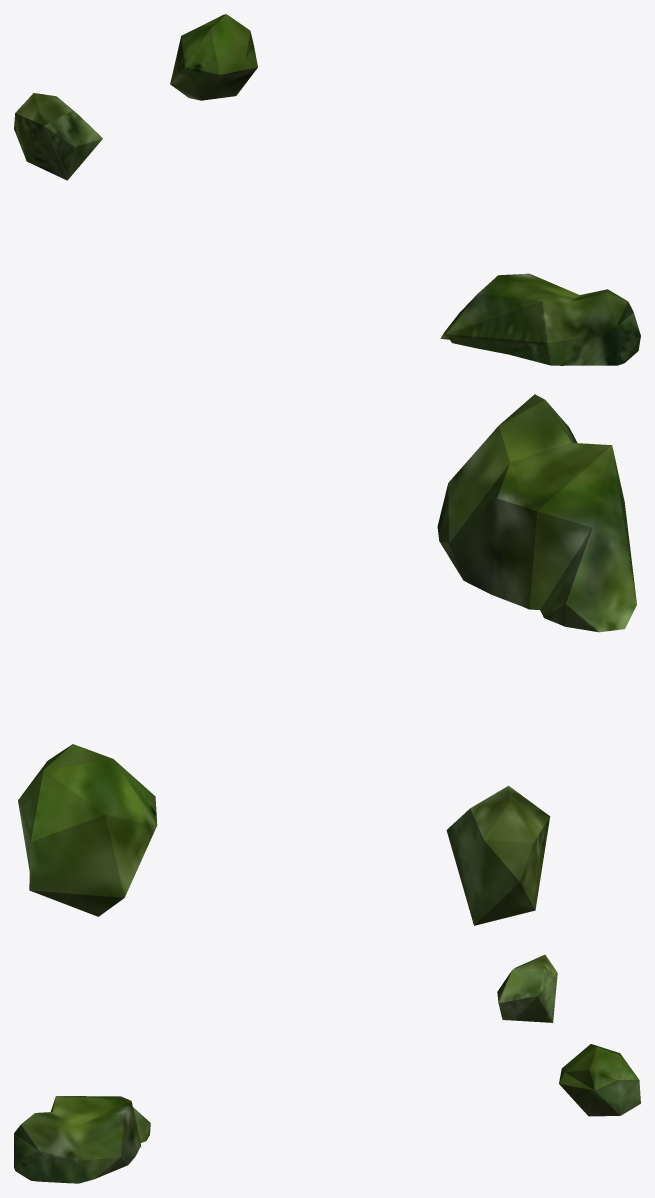
3 views of the same model, one above another, from view 1: azimuth 30°, elevation 25°; view 2: azimuth 150°, elevation 25°; view 3: azimuth 270°, elevation 25° (orthographic). The views are drawn at different scales.
Bounding box in the file's own units: 0.2697 × 0.0908 × 0.5178.
1 material, 1 textured.
